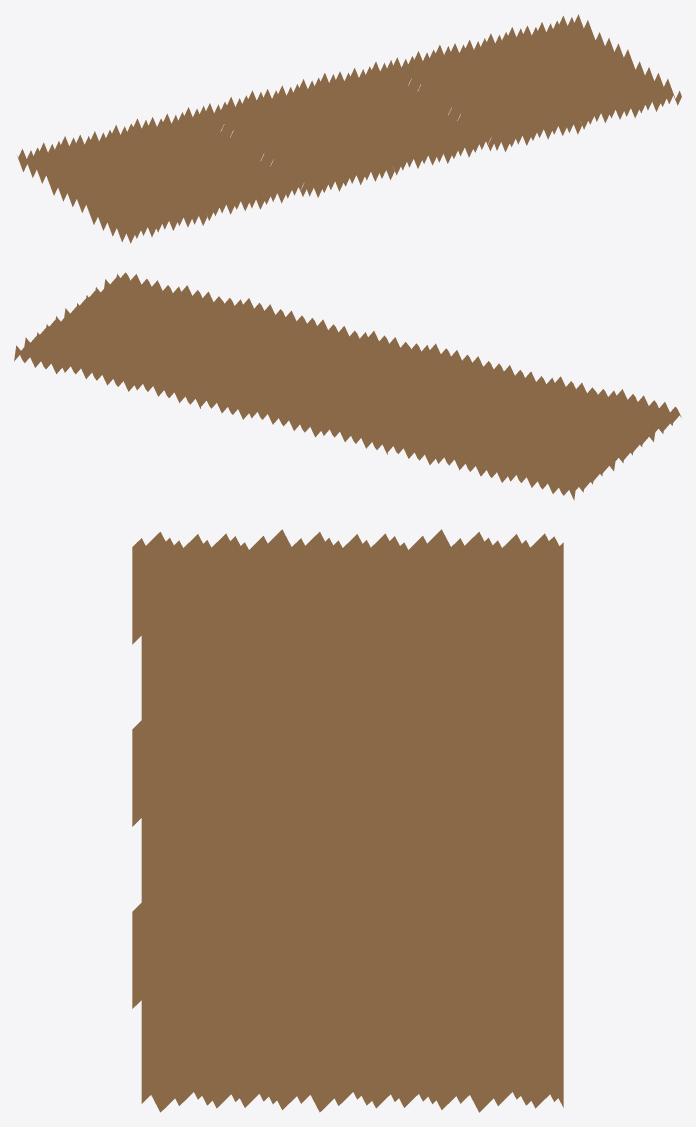
File: chair.glb
3 views of the same model, one above another, from view 1: azimuth 30°, elevation 25°; view 2: azimuth 150°, elevation 25°; view 3: azimuth 270°, elevation 25° (orthographic). The views are drawn at different scales.
Visible parts, largest first — view 1: seat, legs, back; view 2: seat, back, legs; view 3: legs, back, seat.
Boxes of the visible parts, x1=… form: seat: x1=17, y1=106, x2=306, y2=243; legs: x1=393, y1=14, x2=681, y2=151; back: x1=206, y1=60, x2=494, y2=197; seat: x1=387, y1=363, x2=681, y2=500; back: x1=201, y1=318, x2=491, y2=454; legs: x1=14, y1=272, x2=305, y2=408; legs: x1=132, y1=894, x2=563, y2=1112; back: x1=132, y1=711, x2=563, y2=913; seat: x1=132, y1=529, x2=563, y2=731.
Size of the model in its own units: 3 by 0.0941 by 1.
1 material, 1 textured.
